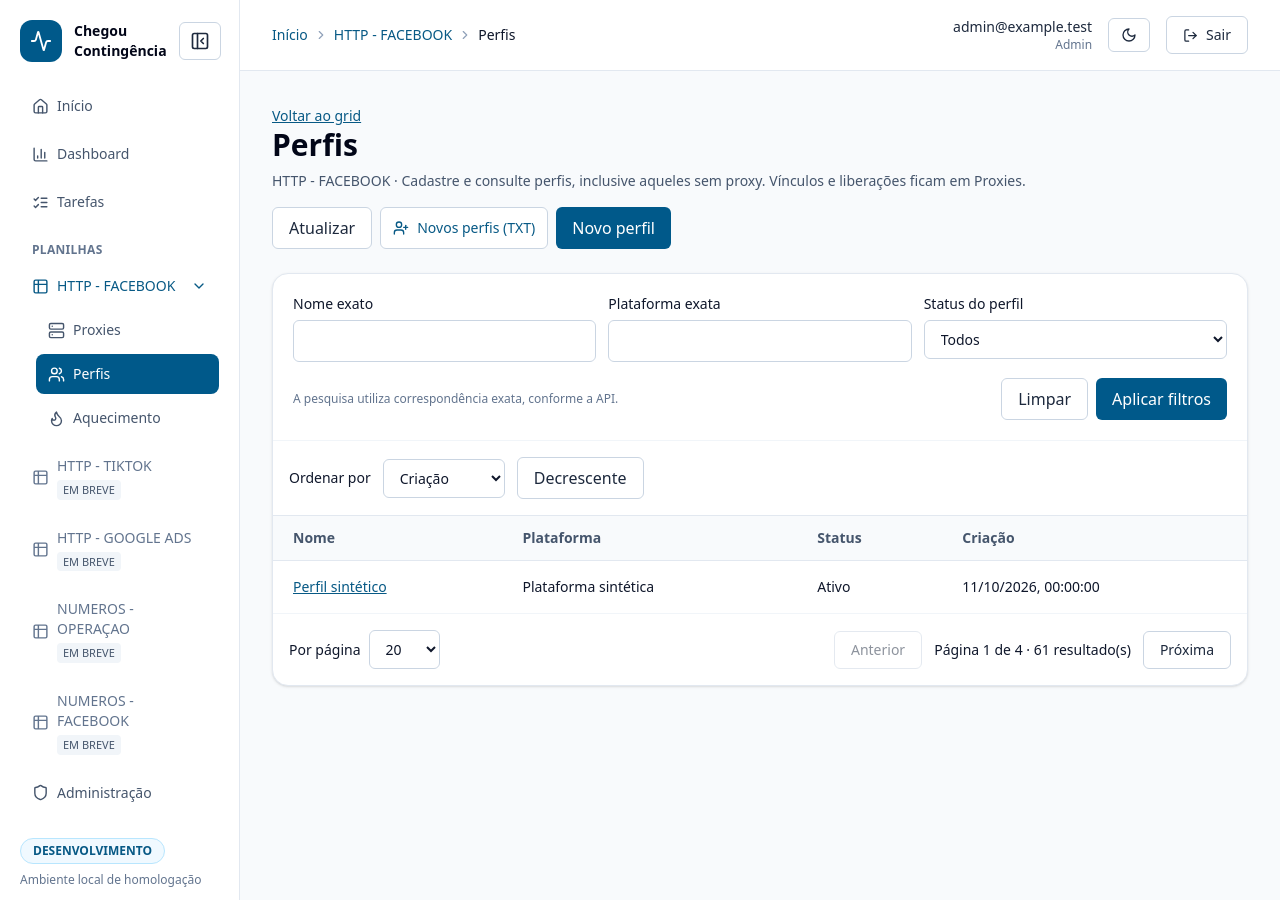
Test: cadastro suporta atribuições opcionais  e  sem plataforma legada artificial
The width and height of the screenshot is (1280, 900).
Check: the link "Perfil sintético" is shown, box [293,577,387,596]
Click the button "Novo perfil". click: x=614, y=228
box: [556,207,671,249]
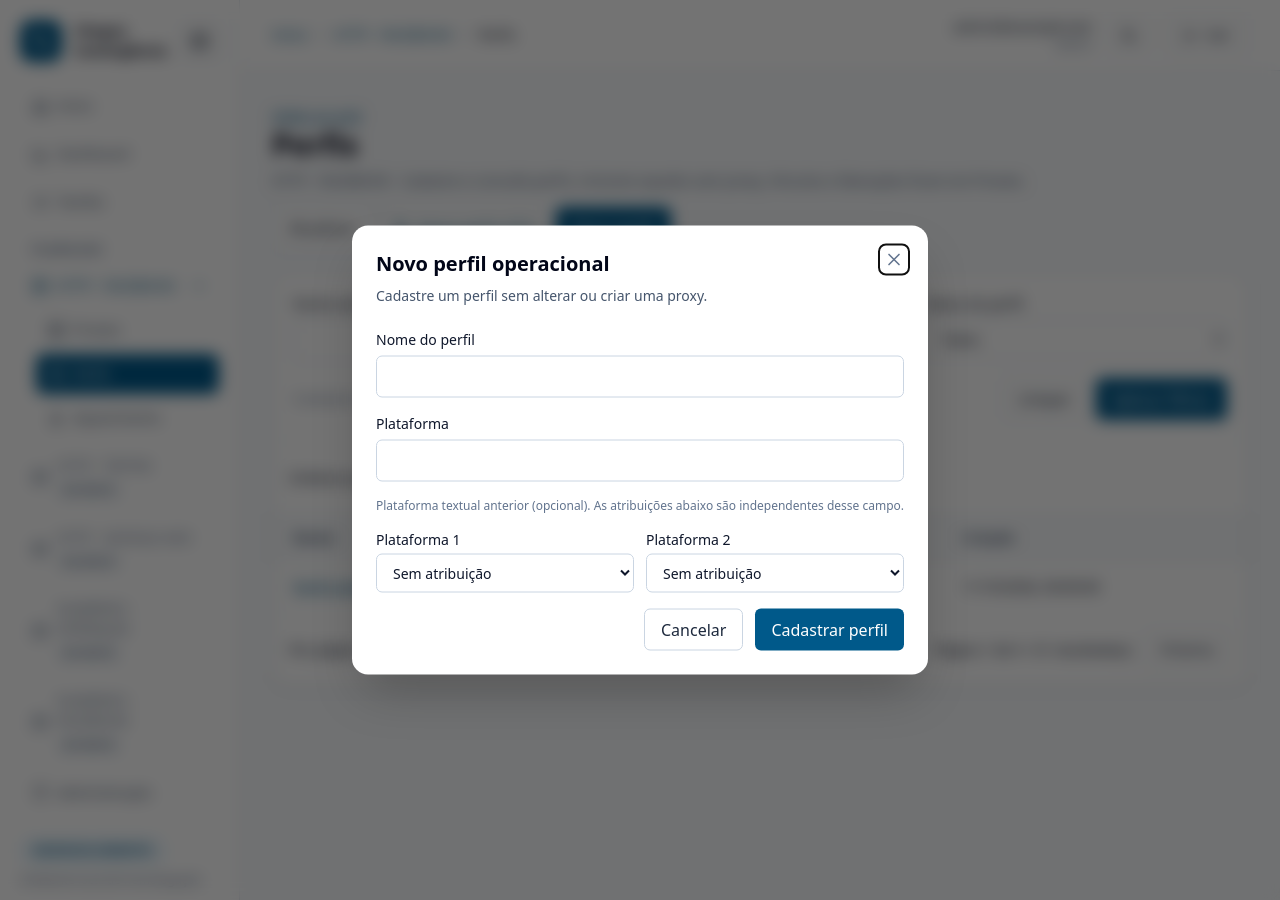
Type "Atribuições sintéticas" into the field labelled "Nome do perfil". click: x=640, y=376
box: [376,356,904,398]
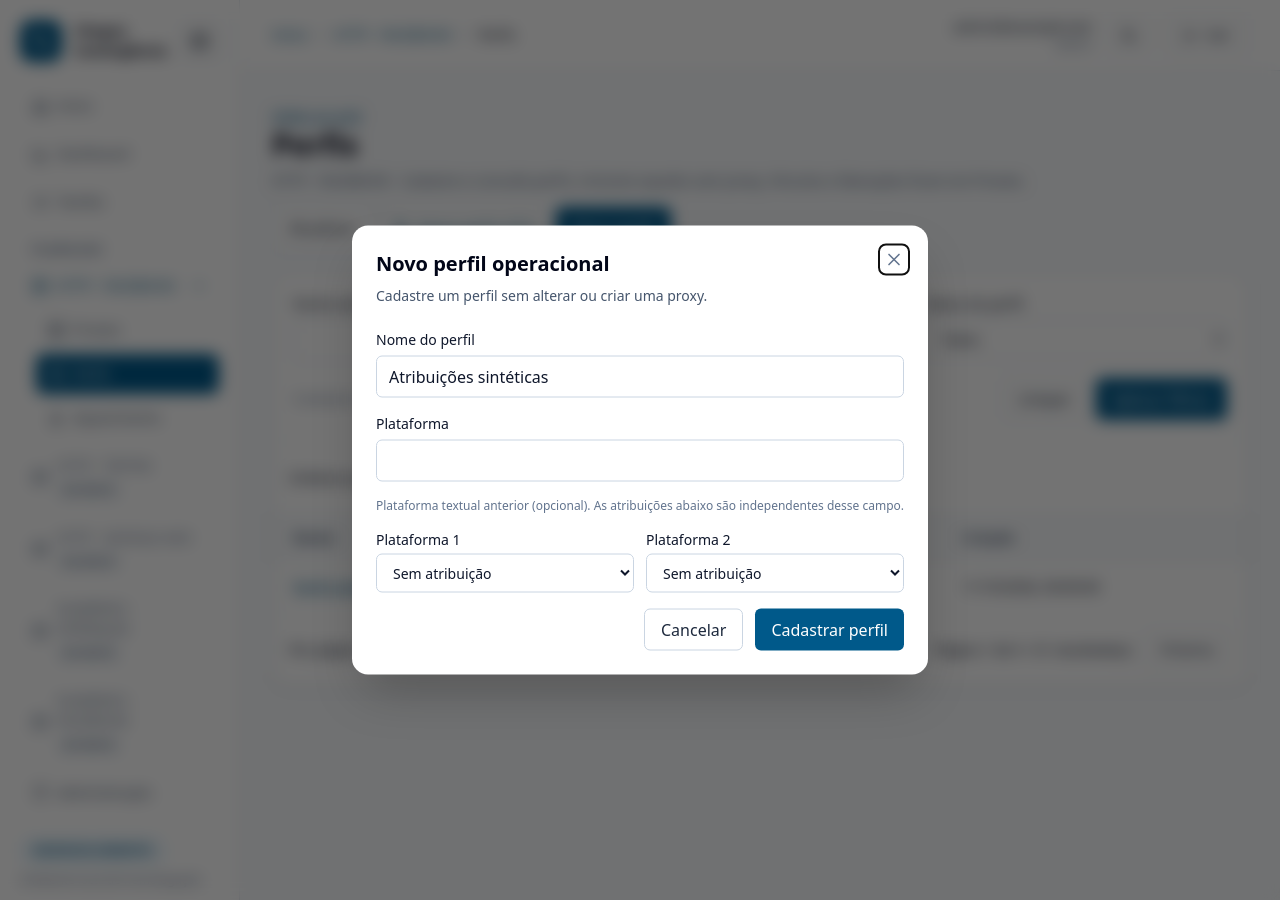
Select "Sem atribuição" in the dropdown labelled "Plataforma 1". click: x=505, y=573
box: [376,554,634,592]
Select "Sem atribuição" in the dropdown labelled "Plataforma 2". click: x=775, y=573
box: [646,554,904,592]
Click the button "Cadastrar perfil". click: x=830, y=630
box: [755,608,904,650]
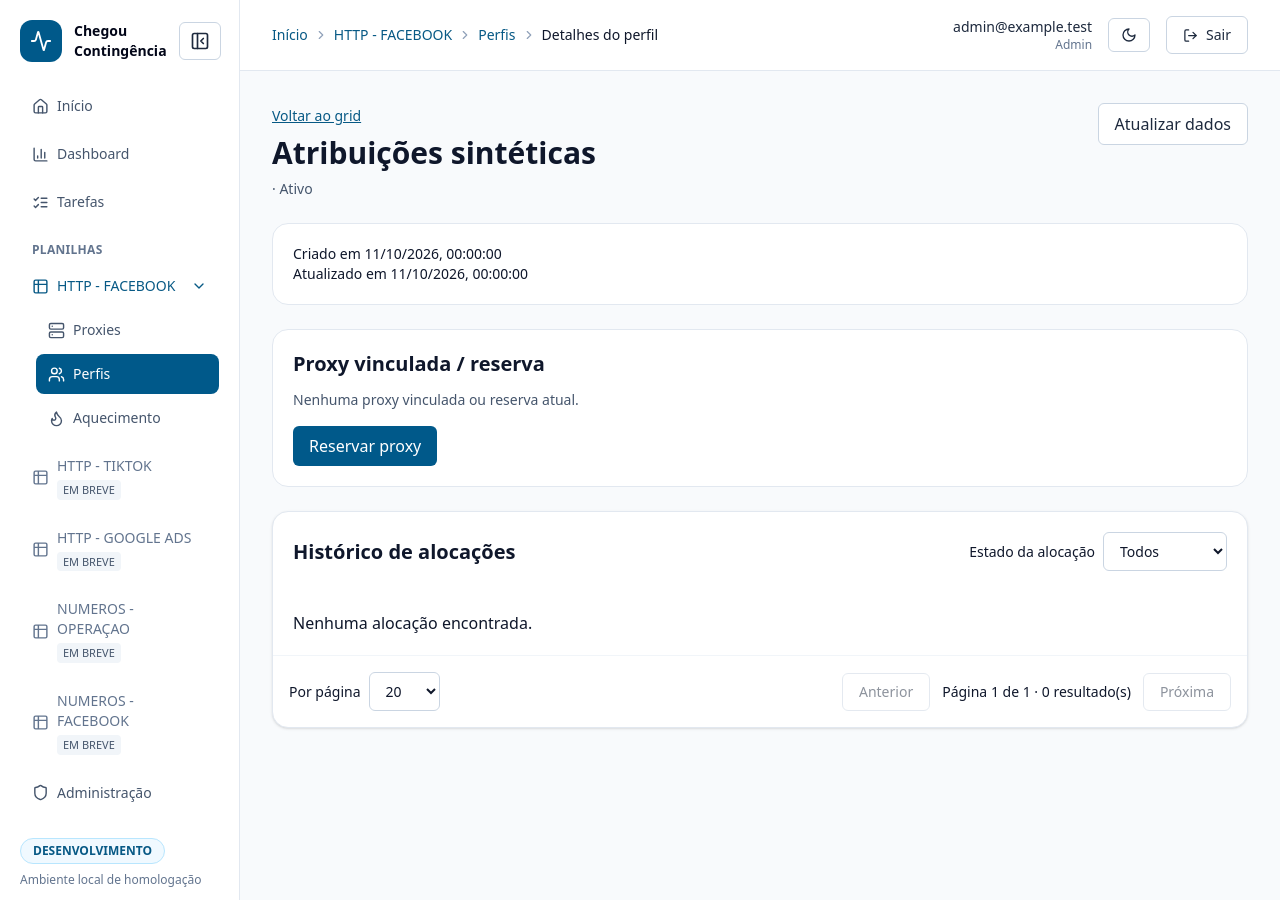
Check: the heading "Atribuições sintéticas" is shown, box [272,135,596,171]
